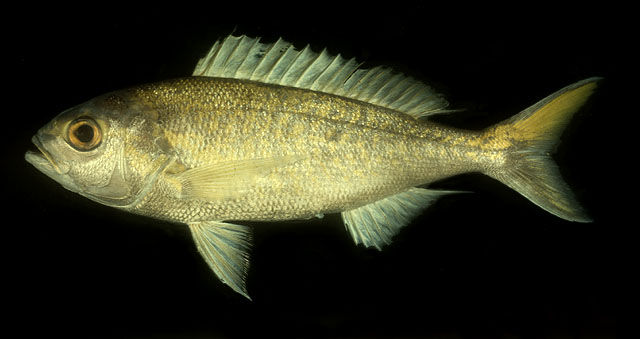fish: (24, 34, 603, 303)
